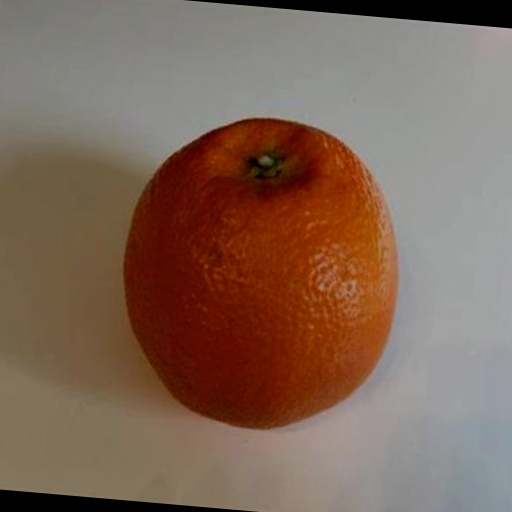fruit: (124, 119, 397, 428)
